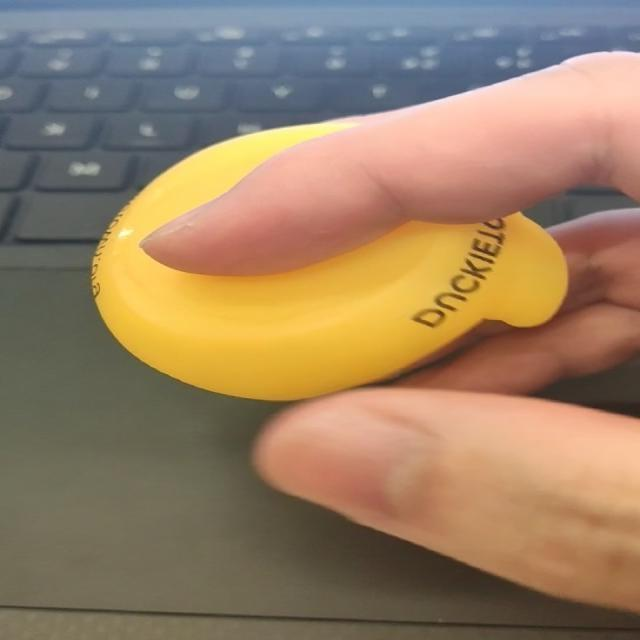rubber-duck: (91, 120, 565, 398)
